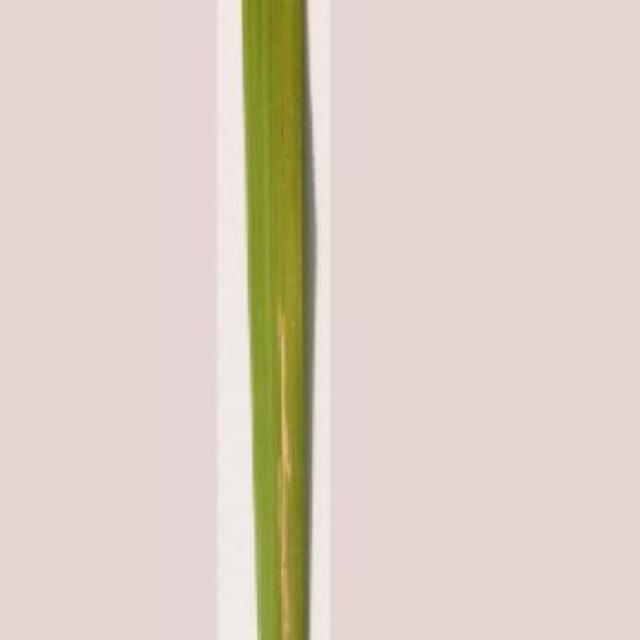Brown_Spot: (238, 0, 318, 640)
